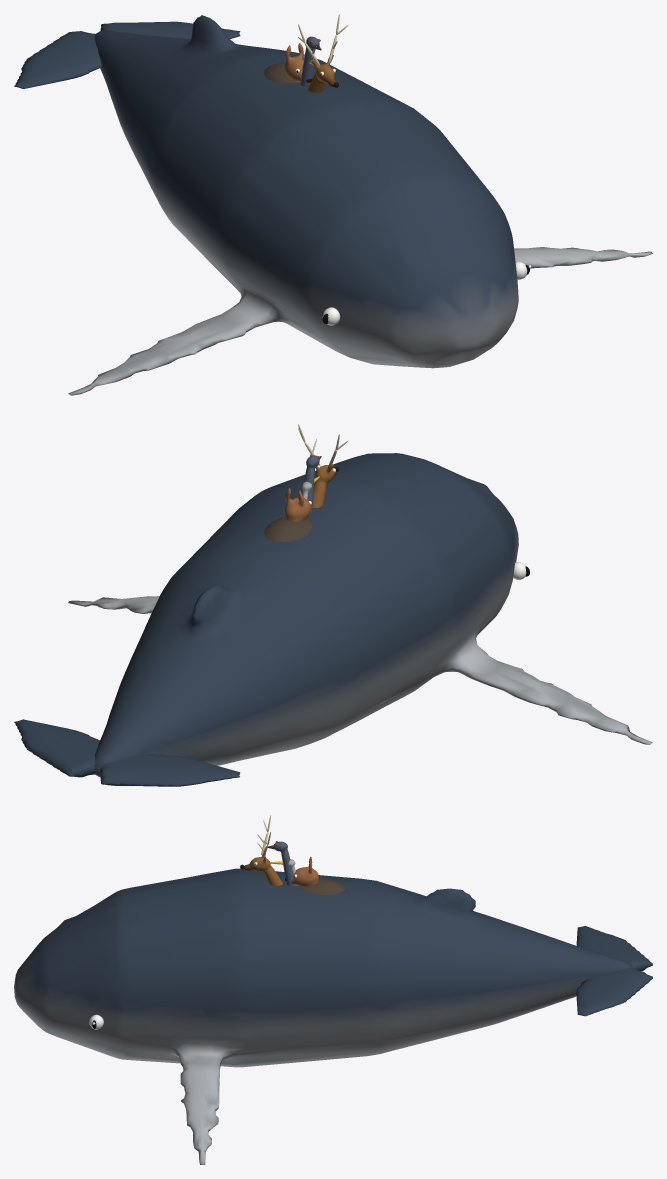
Rendered from animals.glb.
3 renders of one model, top to bottom at view 1: azimuth 30°, elevation 25°; view 2: azimuth 150°, elevation 25°; view 3: azimuth 270°, elevation 25°, orthographic. The views are drawn at different scales.
Visible parts, largest first — view 1: whale_body, whale_flukeP, deer_body_fur; view 2: whale_body, whale_flukeP, emu_body_fur, kangaroo_body_fur, deer_body_fur; view 3: whale_body, whale_flukeP, deer_body_fur, emu_body_fur.
Boxes of the visible parts, bbox=[...] form: whale_body: bbox=[68, 15, 652, 395]; whale_flukeP: bbox=[14, 21, 240, 88]; deer_body_fur: bbox=[308, 55, 336, 92]; whale_body: bbox=[68, 453, 652, 777]; whale_flukeP: bbox=[14, 719, 240, 786]; emu_body_fur: bbox=[264, 516, 311, 541]; kangaroo_body_fur: bbox=[284, 488, 311, 521]; deer_body_fur: bbox=[312, 463, 337, 507]; whale_body: bbox=[14, 868, 633, 1164]; whale_flukeP: bbox=[576, 926, 652, 1016]; deer_body_fur: bbox=[244, 853, 282, 885]; emu_body_fur: bbox=[298, 878, 345, 894].
Size of the model in its own units: 7.34 by 3.4 by 8.5.
